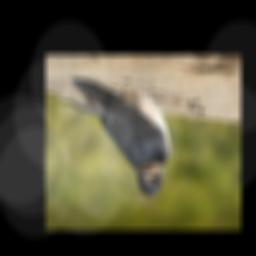Swallow: (57, 79, 172, 196)
